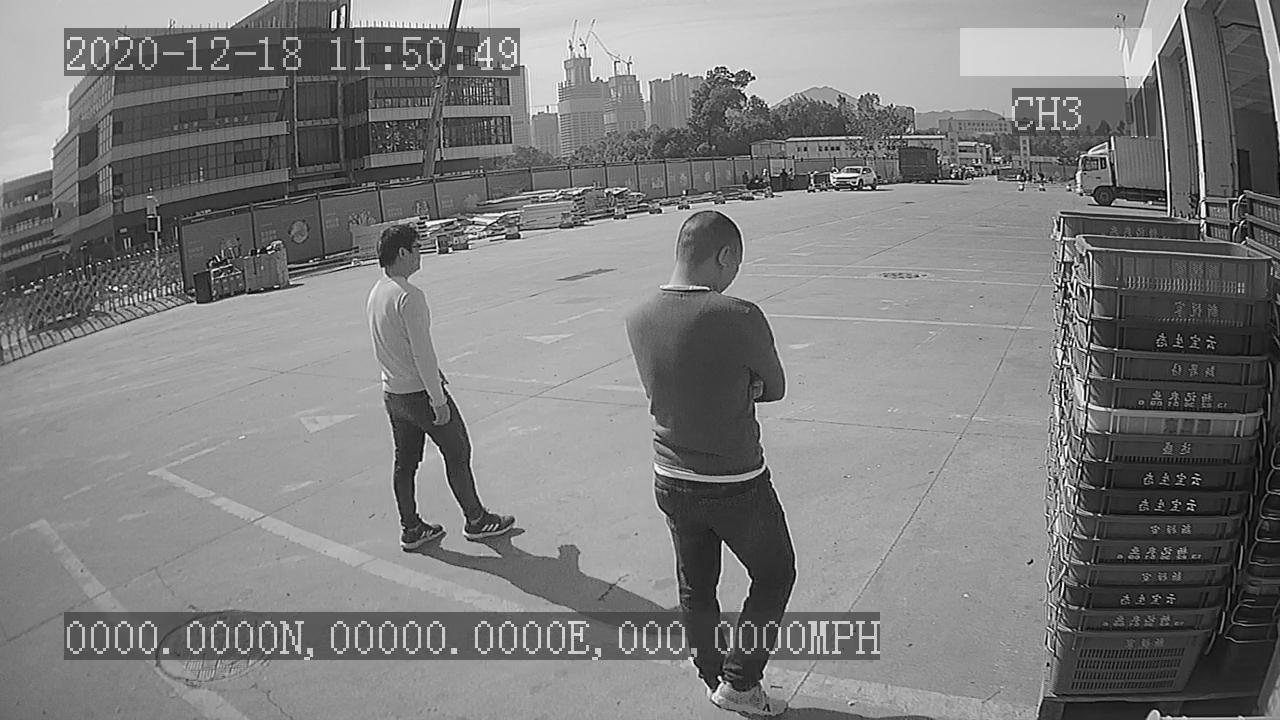person: (361, 220, 520, 552)
